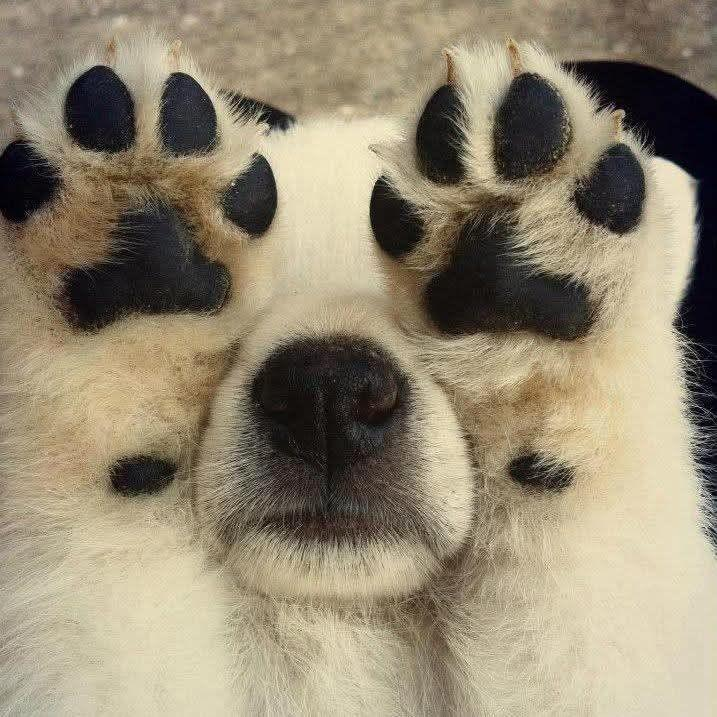puppy-dog: (0, 12, 717, 717)
